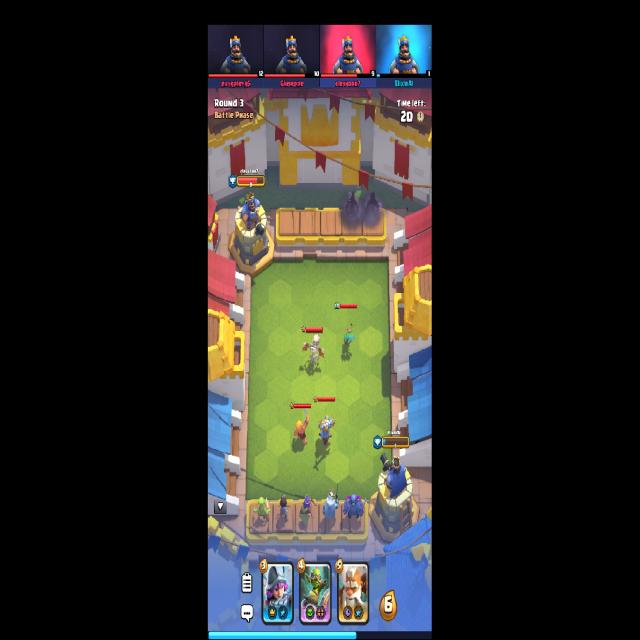archer_queen: (299, 494, 317, 525)
barbarian: (292, 407, 310, 447)
card_goblin_machine: (298, 560, 332, 626)
card_monk: (336, 560, 370, 627)
card_musketeer: (261, 559, 294, 626)
dart_goblin: (343, 322, 355, 346)
goblin: (253, 496, 270, 525)
pekka: (343, 494, 367, 520)
prince: (317, 414, 336, 446)
princess: (276, 495, 290, 521)
royal_ghost: (322, 482, 338, 521)
skeleton_dragon: (302, 334, 324, 368)
